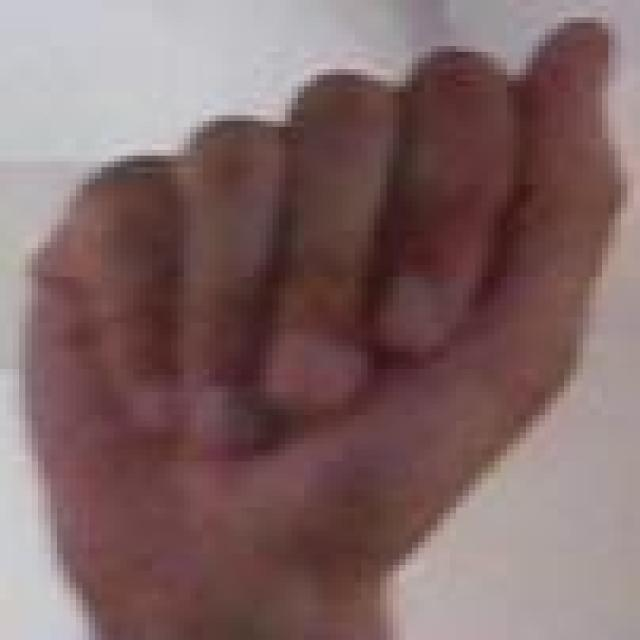A: (4, 15, 639, 619)
